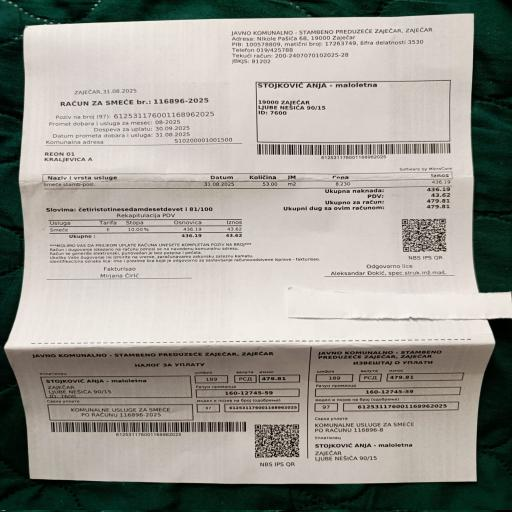racun_za_smece: (38, 171, 453, 206)
